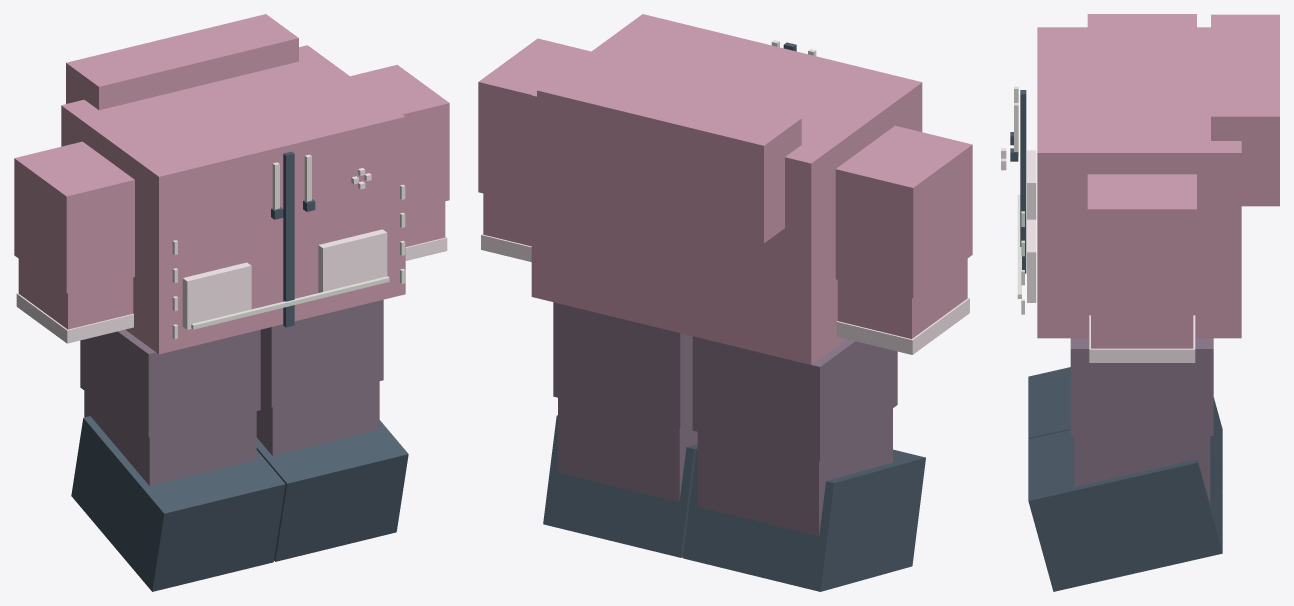
The model's file is hoodie-rose.glb.
3 views of the same model, side by side, from view 1: azimuth 30°, elevation 25°; view 2: azimuth 150°, elevation 25°; view 3: azimuth 270°, elevation 25° (orthographic). The views are drawn at different scales.
Parts seen in each view (by area): view 1: jacket, shoe-Right, upper-sleeve-Right, trouser-Right, shoe-Left, hood-back, trouser-Left, lower-trouser-Right, upper-sleeve-Left, lower-trouser-Left, lower-sleeve-Right, pocket--1 (+6 smaller); view 2: jacket, hood-back, upper-sleeve-Right, trouser-Right, shoe-Right, trouser-Left, lower-trouser-Right, lower-trouser-Left, upper-sleeve-Left, shoe-Left, lower-sleeve-Right, cuff-Right (+2 smaller); view 3: jacket, shoe-Left, upper-sleeve-Left, trouser-Left, hood-back, lower-trouser-Left, lower-sleeve-Left, shoe-Right, cuff-Left, upper-sleeve-Right, zip, pocket-1 (+2 smaller).
Part boxes in pixels (x1=…): jacket: x1=61, y1=45, x2=405, y2=354; shoe-Right: x1=71, y1=416, x2=285, y2=591; upper-sleeve-Right: x1=14, y1=141, x2=134, y2=293; trouser-Right: x1=80, y1=329, x2=260, y2=437; shoe-Left: x1=256, y1=420, x2=408, y2=561; hood-back: x1=66, y1=14, x2=298, y2=110; trouser-Left: x1=260, y1=299, x2=383, y2=407; lower-trouser-Right: x1=84, y1=391, x2=256, y2=485; upper-sleeve-Left: x1=350, y1=65, x2=449, y2=210; lower-trouser-Left: x1=256, y1=381, x2=379, y2=455; lower-sleeve-Right: x1=18, y1=259, x2=133, y2=329; pocket--1: x1=182, y1=262, x2=251, y2=329; jacket: x1=531, y1=14, x2=922, y2=364; hood-back: x1=537, y1=63, x2=801, y2=243; upper-sleeve-Right: x1=835, y1=125, x2=972, y2=298; trouser-Right: x1=692, y1=336, x2=897, y2=461; shoe-Right: x1=682, y1=449, x2=925, y2=591; trouser-Left: x1=553, y1=302, x2=692, y2=427; lower-trouser-Right: x1=697, y1=408, x2=892, y2=535; lower-trouser-Left: x1=558, y1=398, x2=697, y2=501; upper-sleeve-Left: x1=478, y1=38, x2=590, y2=204; shoe-Left: x1=543, y1=415, x2=697, y2=557; lower-sleeve-Right: x1=837, y1=259, x2=967, y2=338; cuff-Right: x1=836, y1=297, x2=969, y2=354; jacket: x1=1037, y1=27, x2=1241, y2=338; shoe-Left: x1=1028, y1=429, x2=1222, y2=591; upper-sleeve-Left: x1=1087, y1=174, x2=1196, y2=310; trouser-Left: x1=1070, y1=338, x2=1213, y2=435; hood-back: x1=1211, y1=14, x2=1279, y2=206; lower-trouser-Left: x1=1074, y1=436, x2=1210, y2=504; lower-sleeve-Left: x1=1091, y1=310, x2=1193, y2=348; shoe-Right: x1=1028, y1=367, x2=1222, y2=490; cuff-Left: x1=1089, y1=315, x2=1195, y2=362; upper-sleeve-Right: x1=1087, y1=14, x2=1196, y2=27; zip: x1=1020, y1=90, x2=1026, y2=273; pocket-1: x1=1027, y1=219, x2=1036, y2=302.
Bounding box in the file's own units: 1.07 × 1.19 × 0.648.
